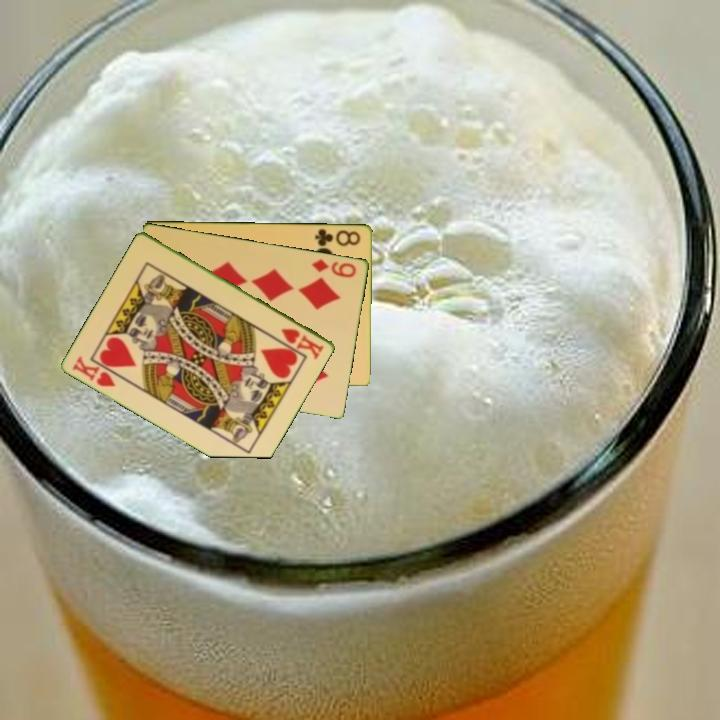8c: (311, 225, 364, 249)
9d: (309, 255, 360, 280)
Kh: (69, 352, 119, 390), (278, 324, 327, 362)
